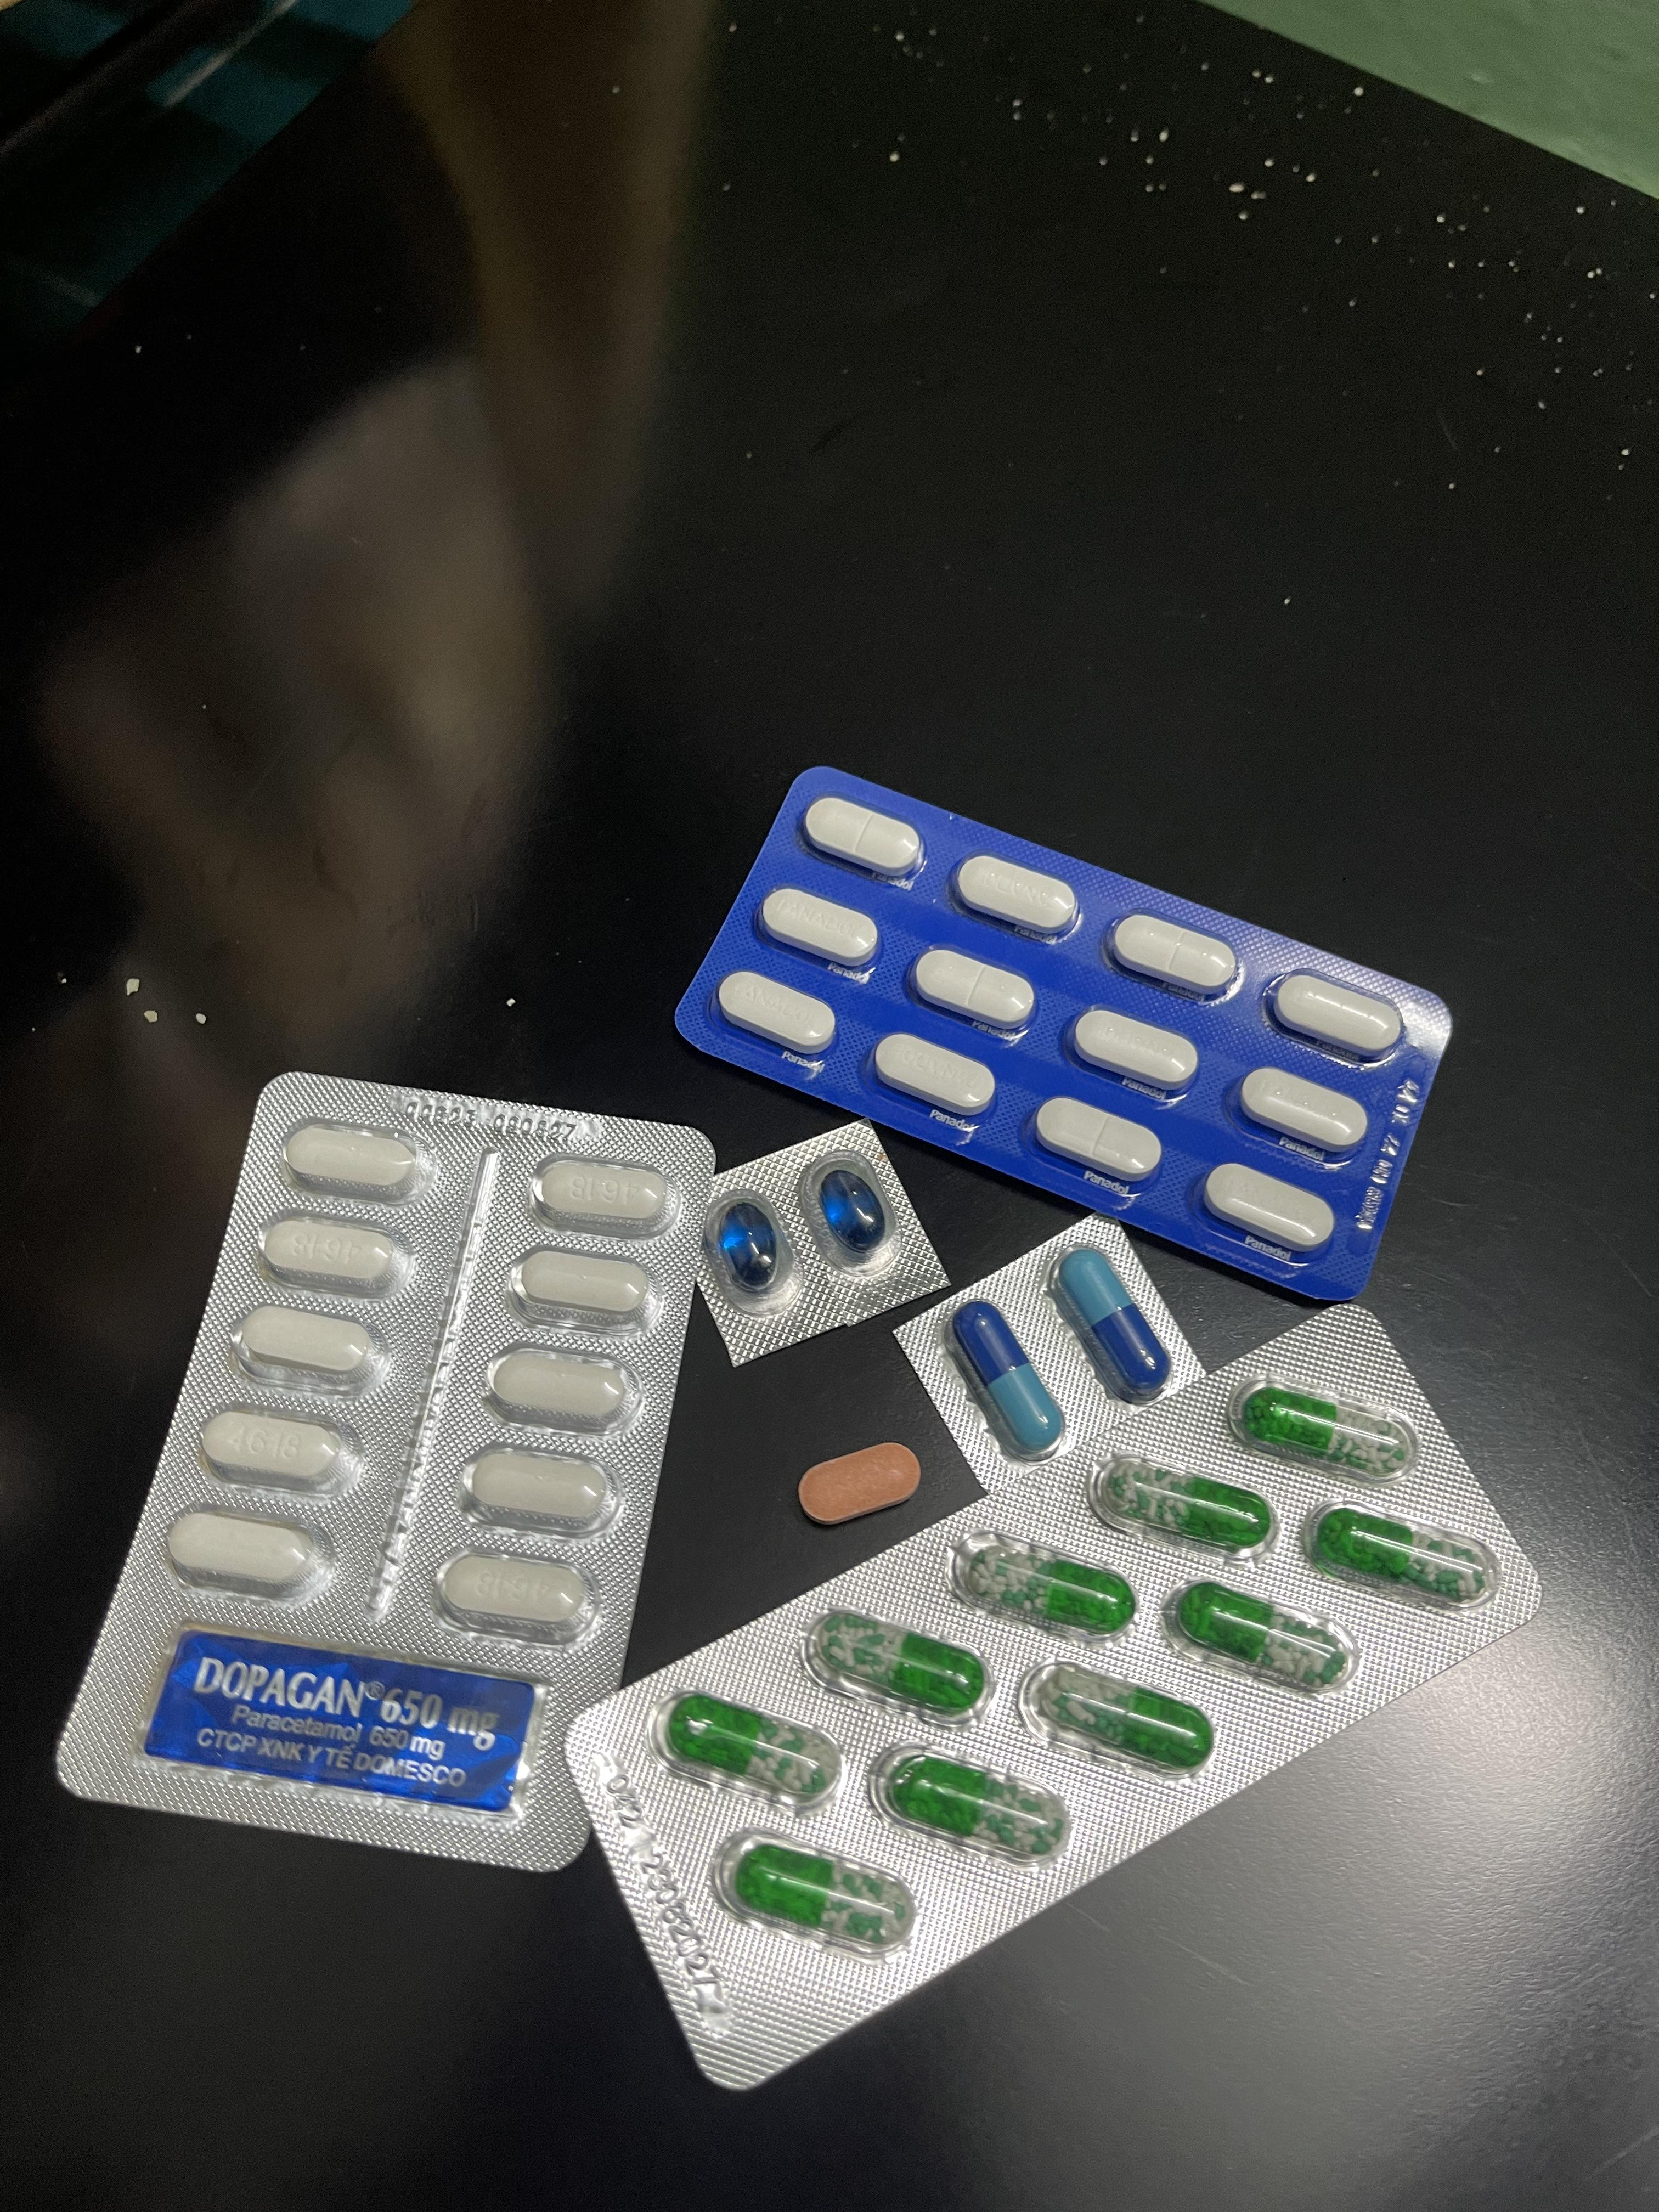Lincomyxin_500mg: (821, 1169, 887, 1252), (716, 1205, 777, 1291)
Loratadine_10mg: (796, 1439, 924, 1527)
Paracetamol_350mg: (1201, 1163, 1342, 1251), (1239, 1068, 1377, 1153), (1267, 975, 1406, 1059), (1066, 1007, 1199, 1090), (1108, 914, 1239, 996), (953, 855, 1082, 937), (910, 948, 1035, 1031), (1037, 1097, 1162, 1179), (875, 1031, 997, 1115), (803, 796, 922, 878), (716, 972, 831, 1055), (760, 888, 880, 967)
Paracetamol_500mg: (166, 1507, 338, 1604), (432, 1547, 601, 1641), (199, 1407, 361, 1500), (460, 1446, 619, 1533), (235, 1305, 389, 1390), (260, 1212, 413, 1294), (486, 1348, 636, 1432), (282, 1120, 427, 1200), (511, 1249, 655, 1325), (532, 1155, 673, 1233)
Paracetamol_650mg: (1021, 1662, 1220, 1775), (807, 1611, 986, 1723), (958, 1538, 1134, 1635), (885, 1754, 1066, 1848), (1314, 1508, 1488, 1597), (1101, 1463, 1276, 1552), (673, 1695, 830, 1792), (732, 1846, 892, 1939), (1182, 1587, 1333, 1681), (1243, 1385, 1401, 1467)
pill: (946, 1299, 1063, 1458), (1056, 1247, 1169, 1399)
